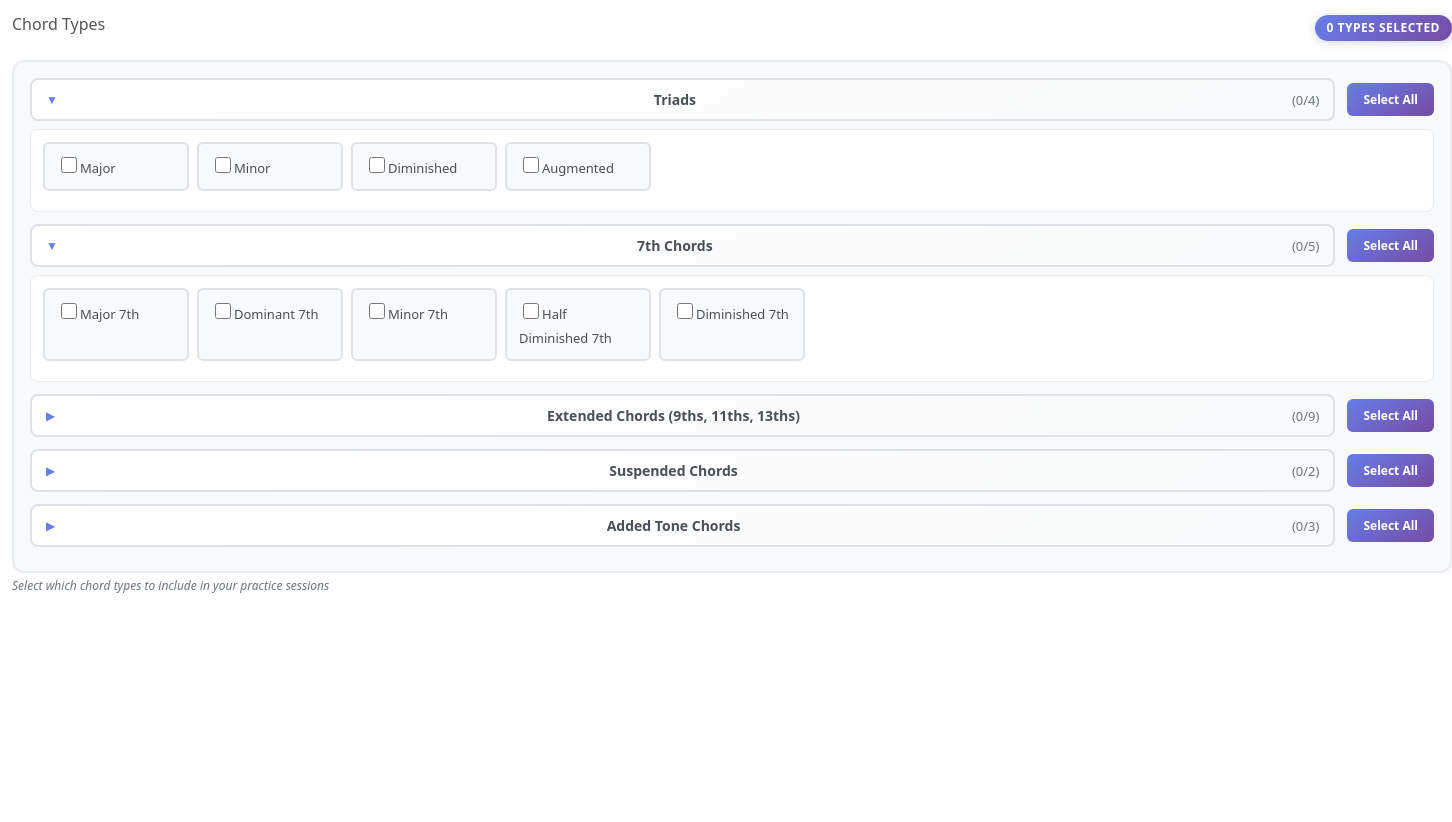
it: ChordTypeSelector › should toggle category expansion when header is clicked
Expected: the text "Major 9th" is not shown
# Click to expand
Click the button "▶ Extended Chords (9ths, 11ths, 13ths) (0/9)".
click(683, 416)  # box top-left (30, 394), bottom-right (1335, 437)
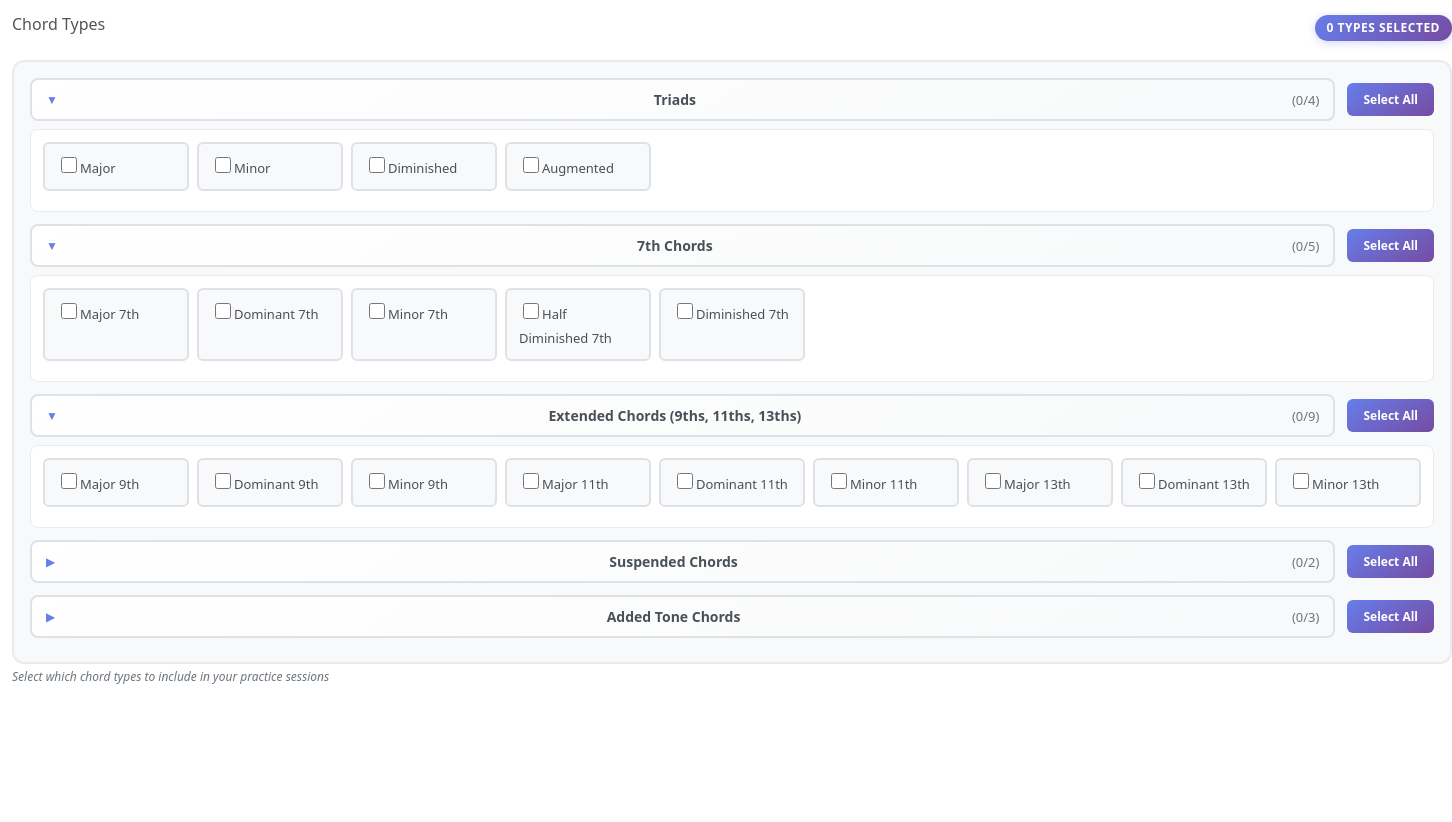
Result: the text "Major 9th" is shown at top-left (80, 475), bottom-right (139, 493)
